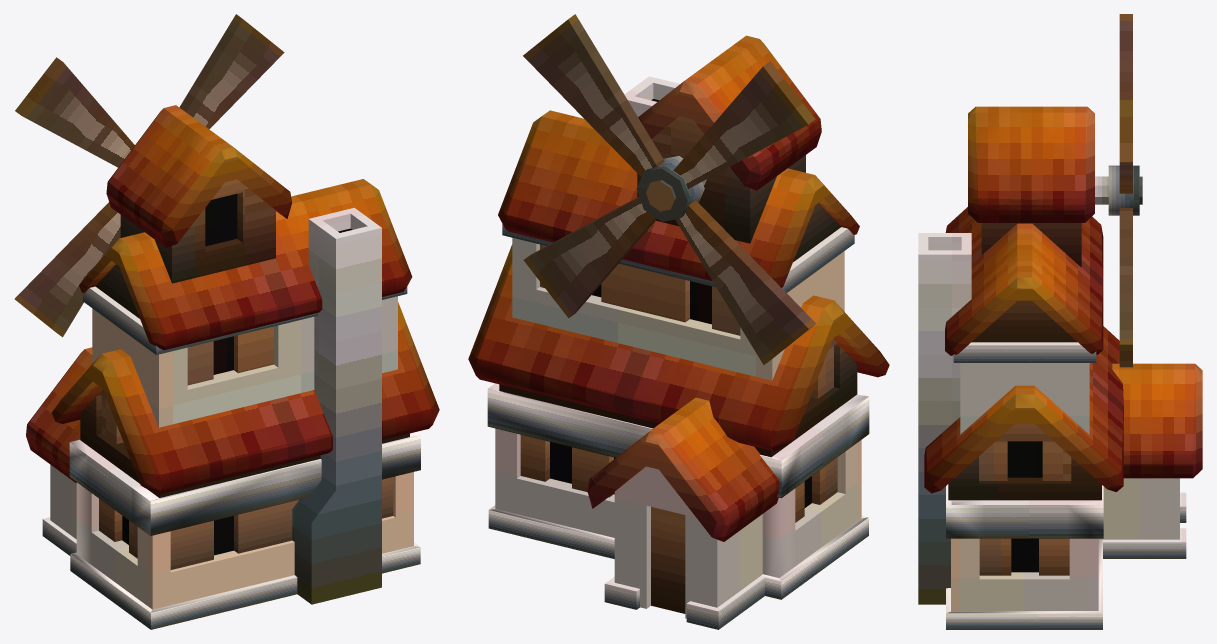
Rendered from simple_low_poly_farm_house_lvl7.glb.
3 renders of one model, left to right at view 1: azimuth 30°, elevation 25°; view 2: azimuth 150°, elevation 25°; view 3: azimuth 270°, elevation 25°, orthographic. The views are drawn at different scales.
Parts seen in each view (by area): view 1: farm_house_lvl7_Material #25_0; view 2: farm_house_lvl7_Material #25_0; view 3: farm_house_lvl7_Material #25_0.
Part boxes in pixels (box(x1,y1,x2,y2)): farm_house_lvl7_Material #25_0: box(14, 14, 439, 629); farm_house_lvl7_Material #25_0: box(468, 14, 889, 629); farm_house_lvl7_Material #25_0: box(918, 14, 1202, 629).
Bounding box in the file's own units: 5.44 × 8.08 × 4.27.
Materials: 1 (1 with a texture image).
